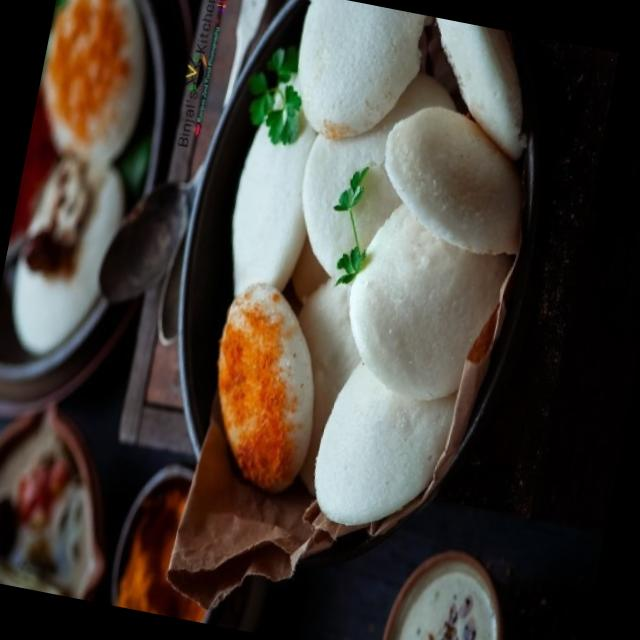IDLI: (233, 0, 524, 524)
